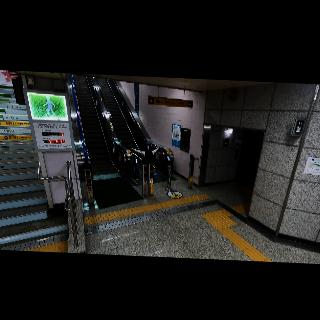anomaly: (130, 146, 160, 171)
